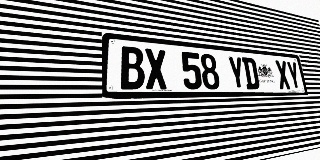5: (181, 51, 203, 89)
8: (199, 53, 220, 89)
B: (120, 46, 145, 89)
D: (242, 57, 260, 89)
X: (144, 48, 168, 89), (274, 60, 291, 89)
Y: (227, 56, 246, 89), (286, 61, 302, 89)
